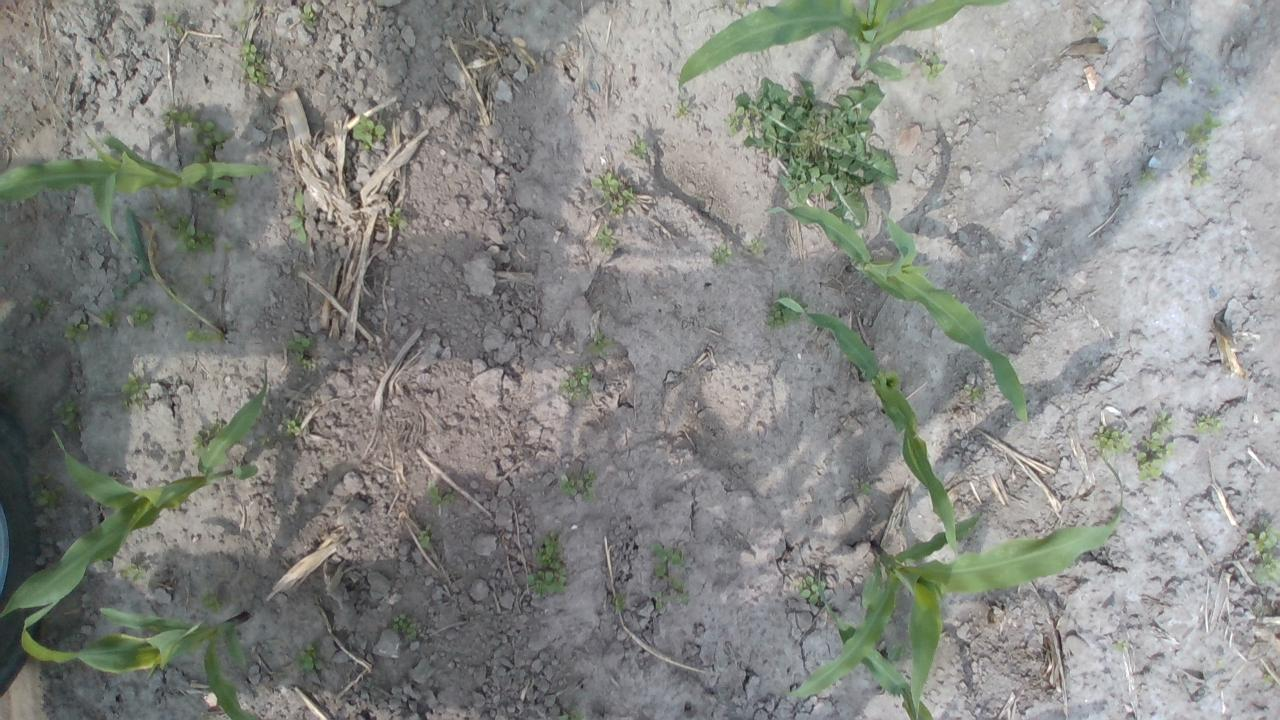Maize: (783, 446, 1126, 718), (1, 360, 270, 618), (764, 204, 1031, 424), (772, 296, 961, 556), (0, 134, 282, 250), (678, 0, 1012, 95), (20, 596, 262, 720)
Weeds: (730, 76, 906, 236), (162, 110, 227, 164), (562, 336, 613, 401), (1136, 413, 1176, 478), (528, 535, 566, 596), (1246, 520, 1278, 589), (1188, 122, 1216, 182), (596, 173, 634, 216), (29, 454, 54, 505), (284, 190, 306, 246), (652, 544, 686, 580), (238, 41, 266, 84), (556, 472, 596, 500), (174, 221, 207, 252), (654, 584, 689, 613), (355, 118, 388, 147), (798, 578, 829, 605), (1098, 428, 1130, 453), (122, 377, 149, 406), (50, 402, 80, 428), (391, 615, 416, 641), (924, 52, 947, 80), (1195, 412, 1223, 435), (425, 482, 453, 505), (131, 304, 153, 332), (961, 381, 987, 404), (768, 304, 791, 328), (288, 334, 310, 357), (300, 5, 318, 31), (295, 647, 315, 669), (66, 320, 86, 340), (387, 209, 406, 228), (713, 244, 731, 264), (96, 310, 116, 328), (598, 231, 614, 248), (559, 710, 585, 720), (752, 238, 766, 256), (284, 417, 298, 432), (1094, 18, 1108, 33), (1176, 65, 1188, 82), (636, 141, 649, 156), (1267, 672, 1280, 686), (418, 530, 428, 548), (614, 592, 624, 609), (31, 298, 44, 311), (1120, 640, 1132, 654), (167, 16, 180, 28), (126, 566, 139, 574)
